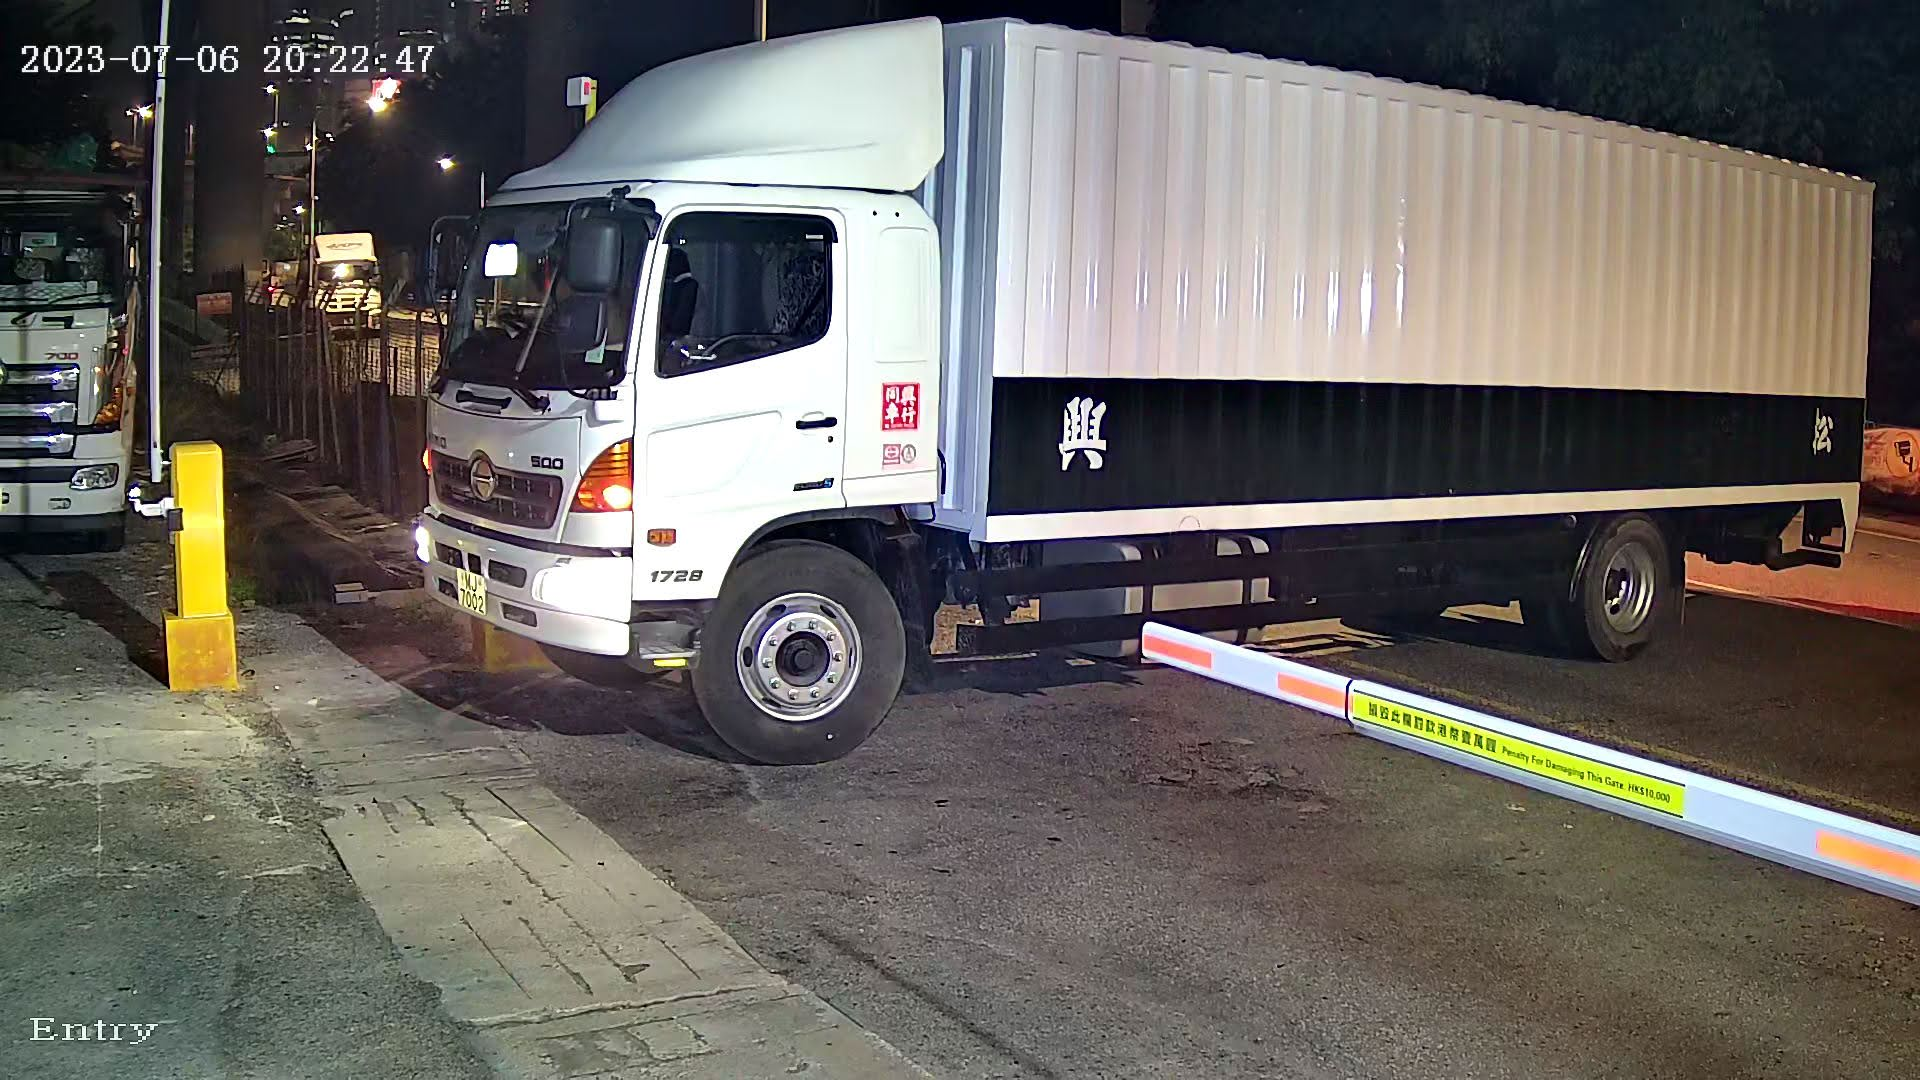truck_large: (357, 9, 1920, 761)
